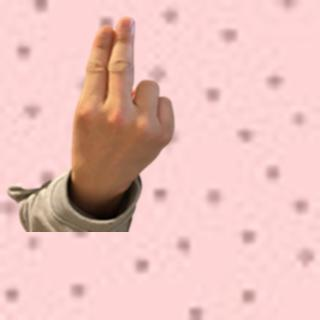DHAVE: (68, 13, 182, 204)
